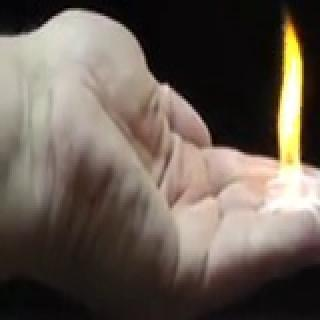fire: (266, 100, 304, 220)
